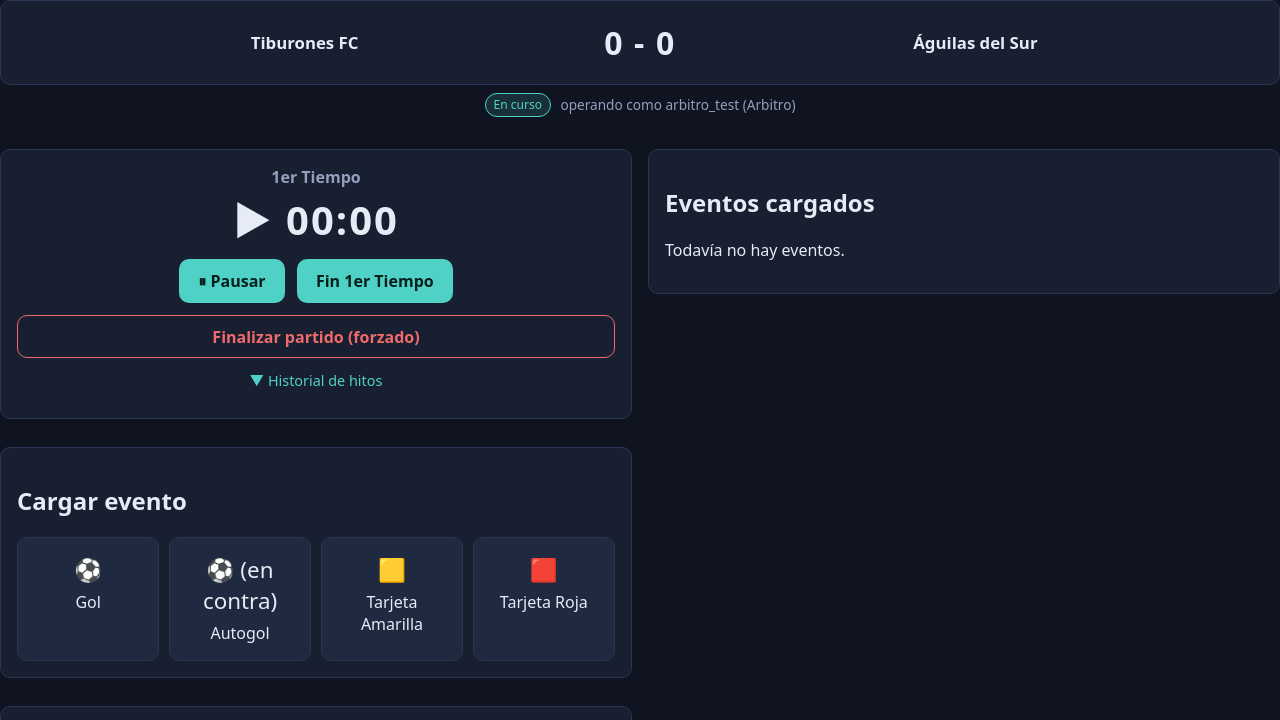
Test: MesaPanel — offline-first (3B-1, docs/plans/cierre-backlog-todos-plan.md) › un fallo de RED (no un rechazo del backend) encola el evento en vez de perderlo
This screenshot has width=1280, height=720.
Expected: the heading "Cargar evento" is shown, [17,484,187,517]
Step 1. Click the button "⚽ Gol" → (88, 599), box [17,537,159,661]
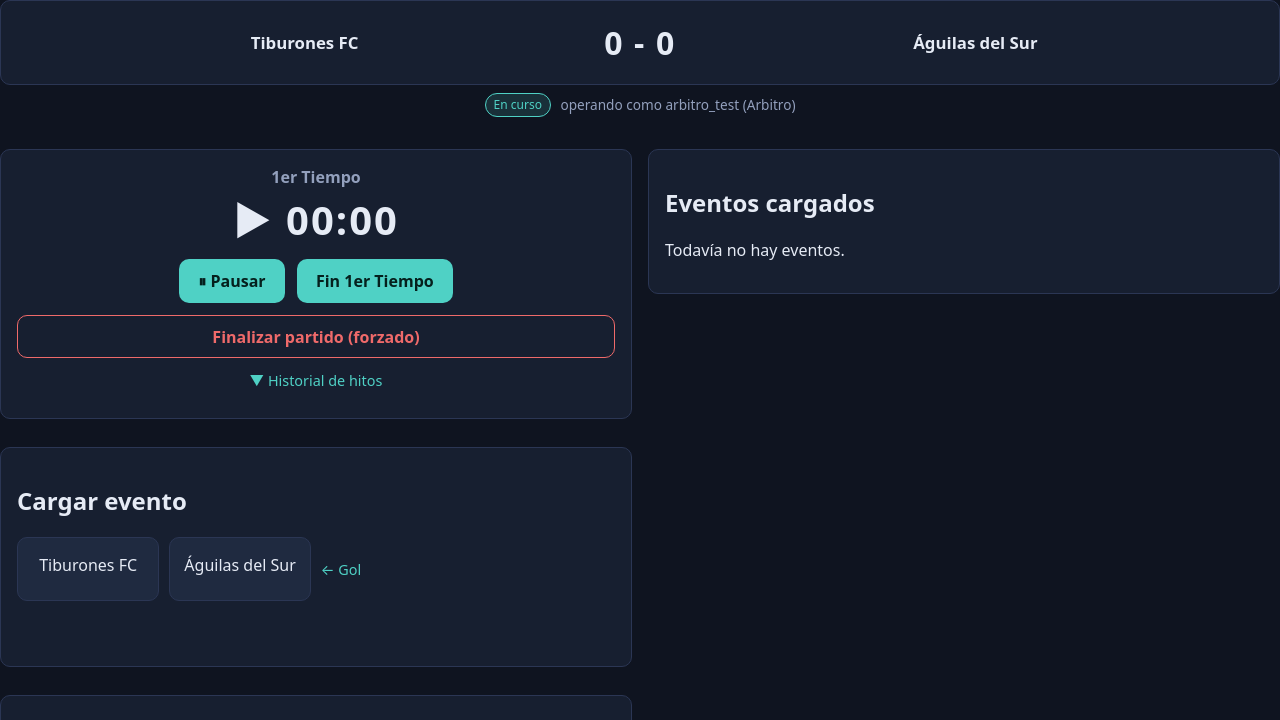
Step 2. Click the button "Tiburones FC" → (88, 569), box [17,537,159,601]
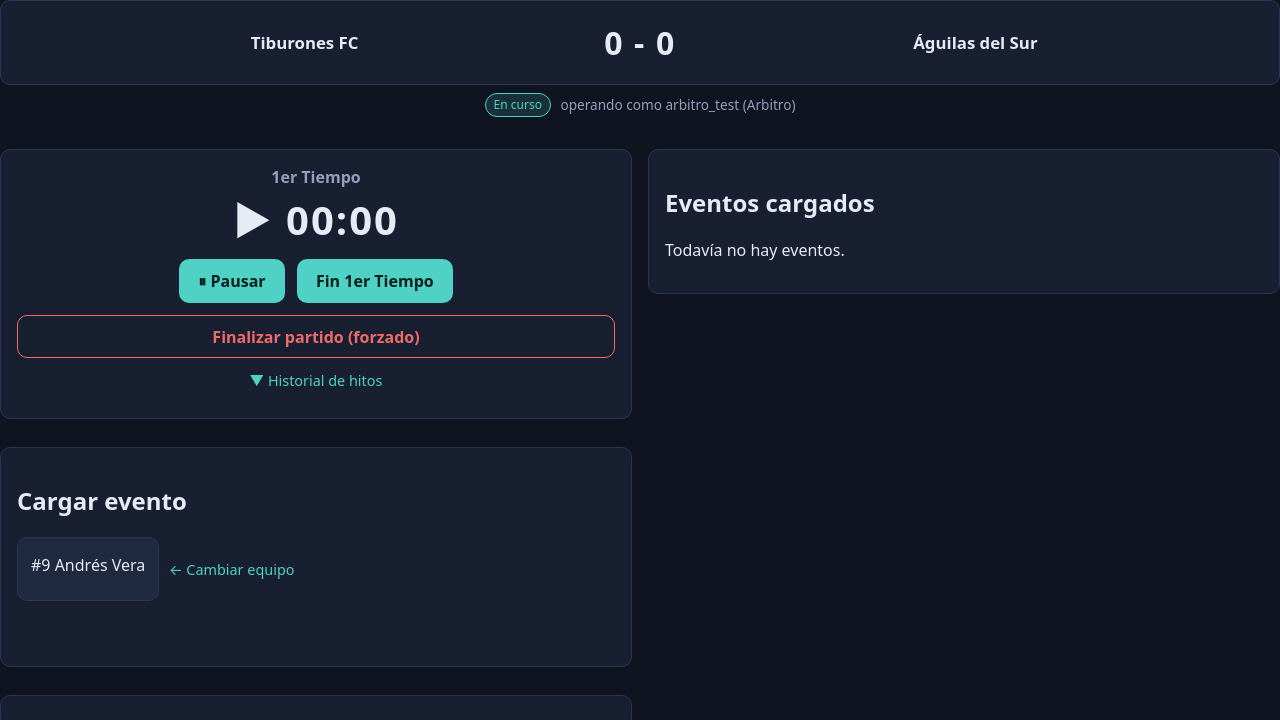
Step 3. Click the button "#9 Andrés Vera" → (88, 569), box [17,537,159,601]
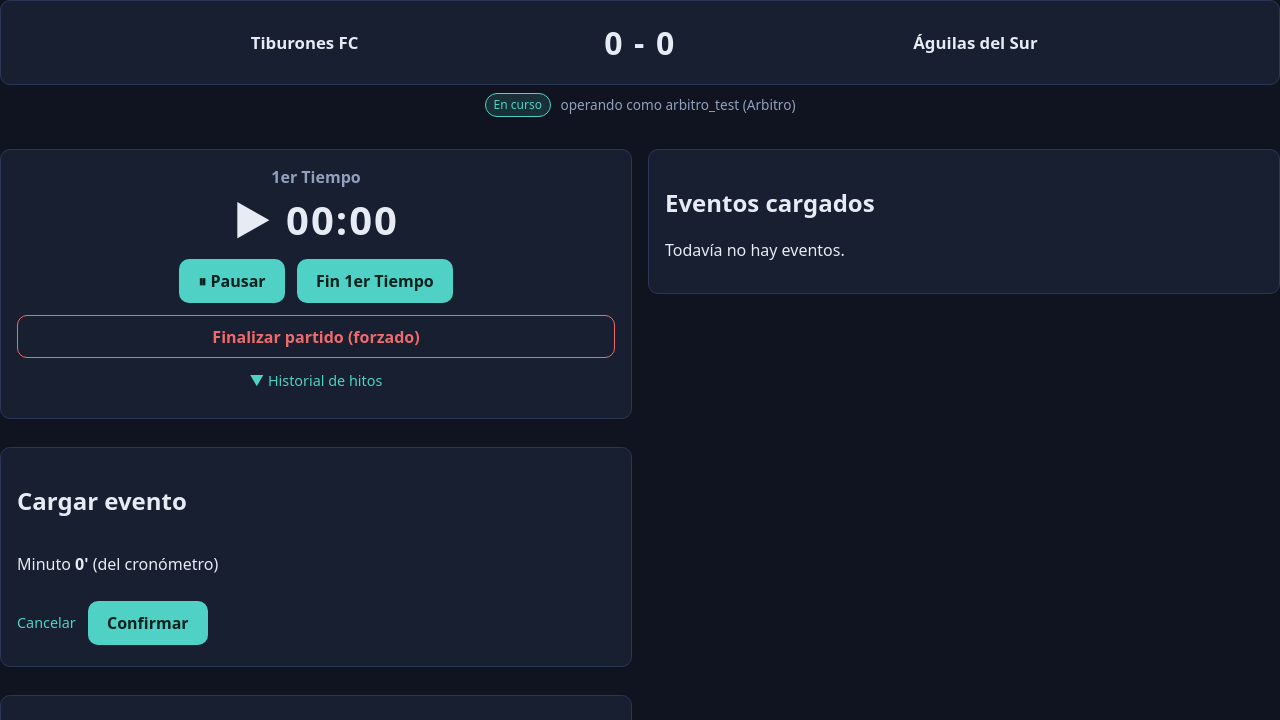
Result: the button "Confirmar" is enabled
Step 4. Click the button "Confirmar" → (148, 623), box [88,601,208,645]
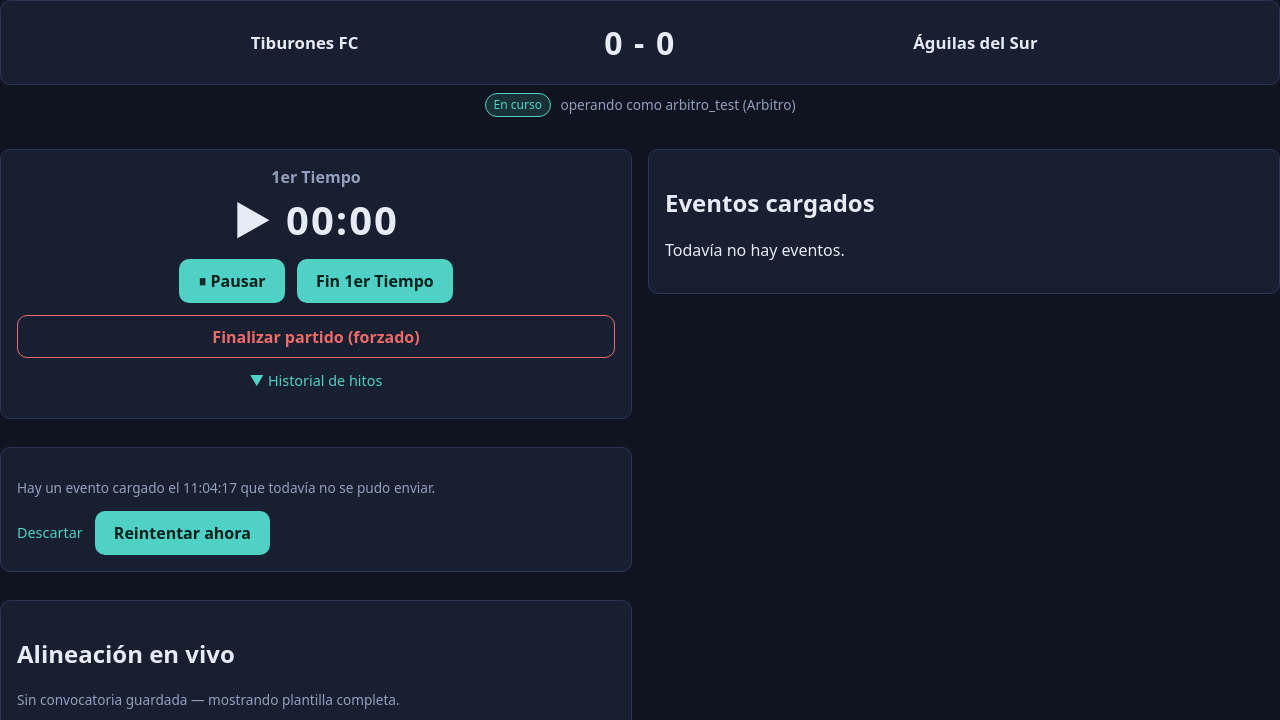
Result: the text "todavía no se pudo enviar" is shown at [237,478,431,497]
Result: the heading "Cargar evento" is gone
